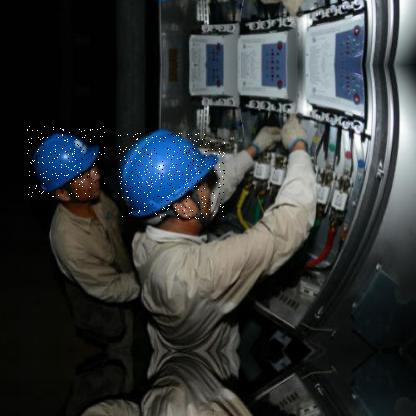safetyhelmet: (118, 133, 226, 220), (27, 126, 106, 198)
